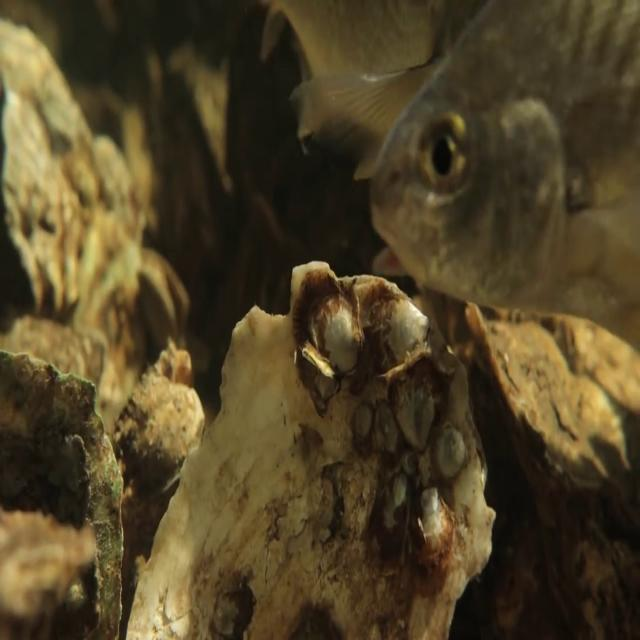Oyster-Closed: (465, 301, 635, 500), (112, 374, 203, 509)
Oyster-Indeterminate: (126, 257, 497, 639), (0, 350, 124, 639), (2, 65, 86, 322)
